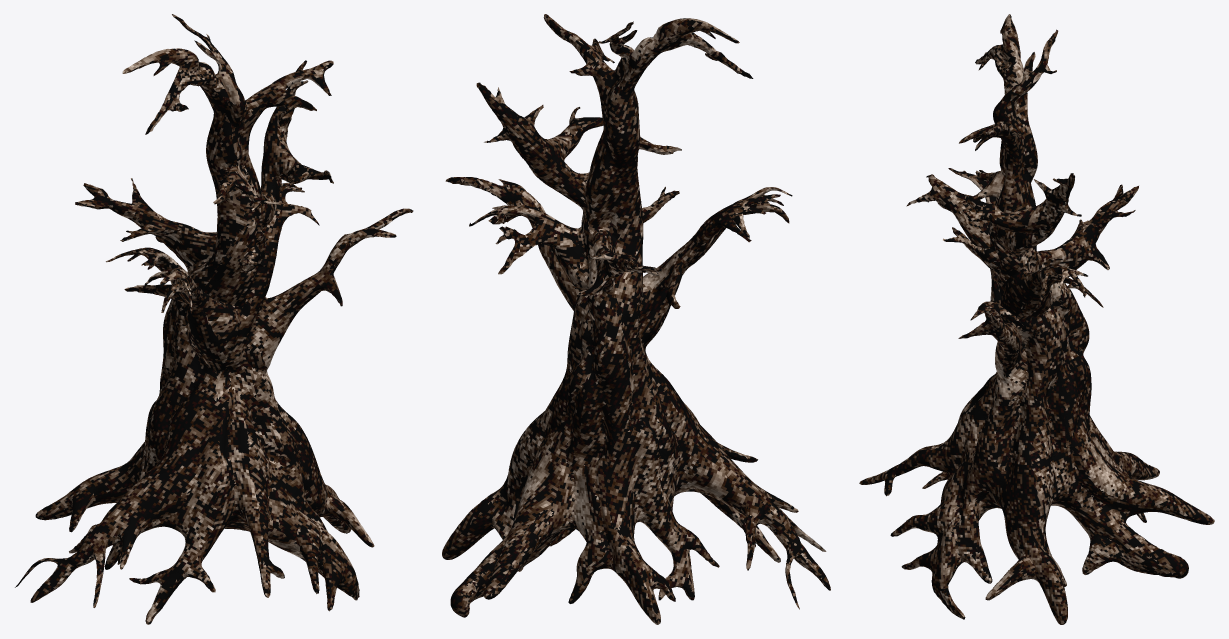
Rendered from tree5.glb.
The picture shows the model from 3 angles, left to right: view 1: azimuth 30°, elevation 25°; view 2: azimuth 150°, elevation 25°; view 3: azimuth 270°, elevation 25°; orthographic projection. The views are drawn at different scales.
Parts seen in each view (by area): view 1: Cube; view 2: Cube; view 3: Cube.
Boxes of the visible parts, bbox=[...] form: Cube: bbox=[15, 14, 413, 624]; Cube: bbox=[442, 14, 830, 624]; Cube: bbox=[859, 14, 1214, 624].
Size of the model in its own units: 10.59 by 15.52 by 9.44.
Materials: 1 (1 with a texture image).
